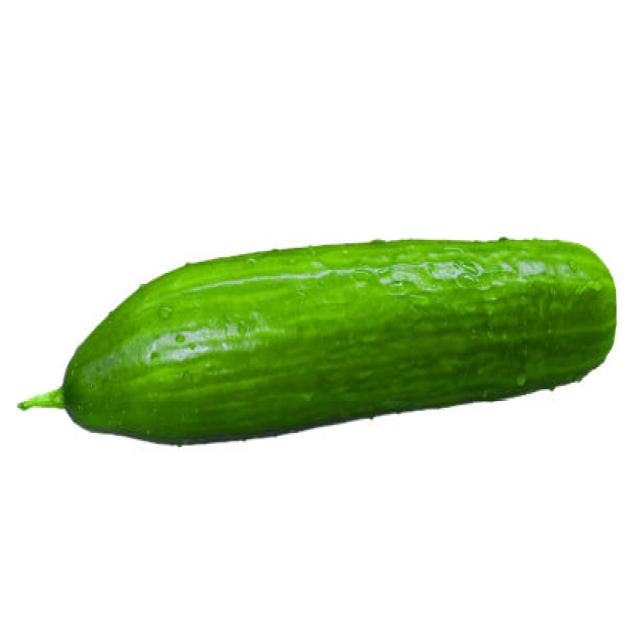cucumber: (67, 240, 618, 444)
